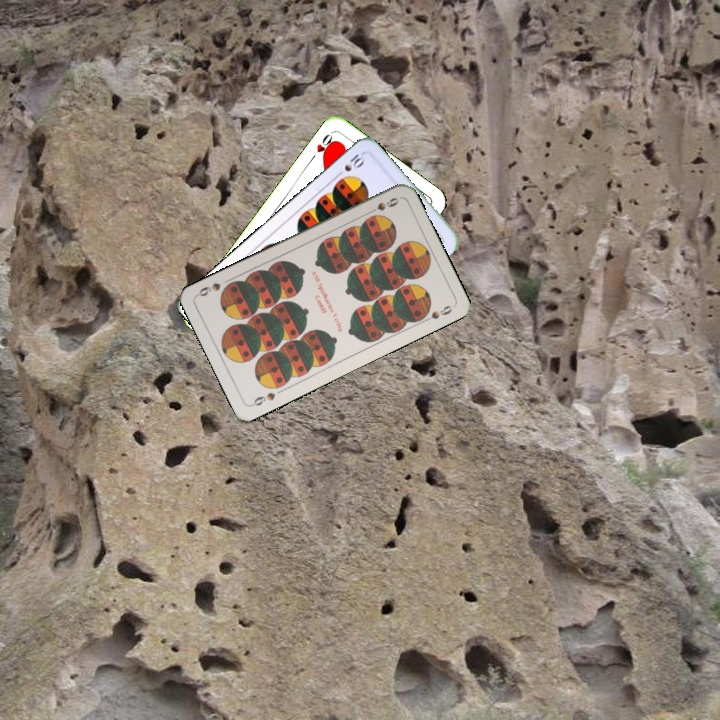HO: (306, 128, 338, 163)
S10: (332, 149, 368, 180)
S9: (363, 193, 401, 217), (247, 388, 278, 409)
